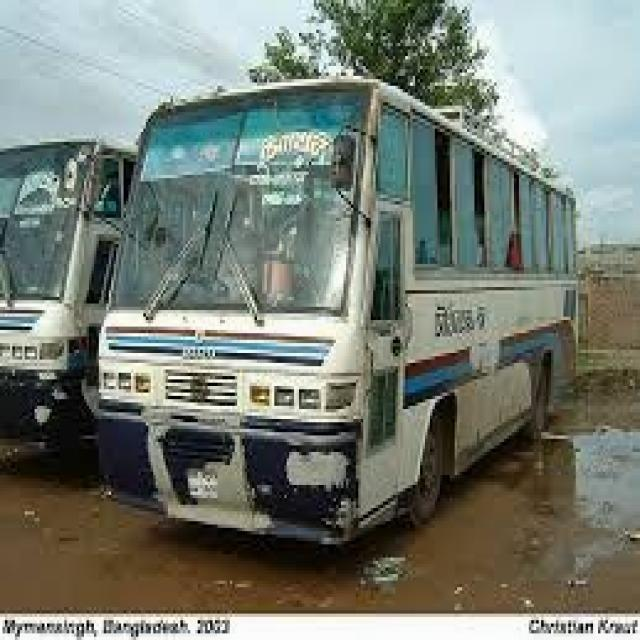Bus: (100, 36, 595, 575), (0, 127, 106, 492)
